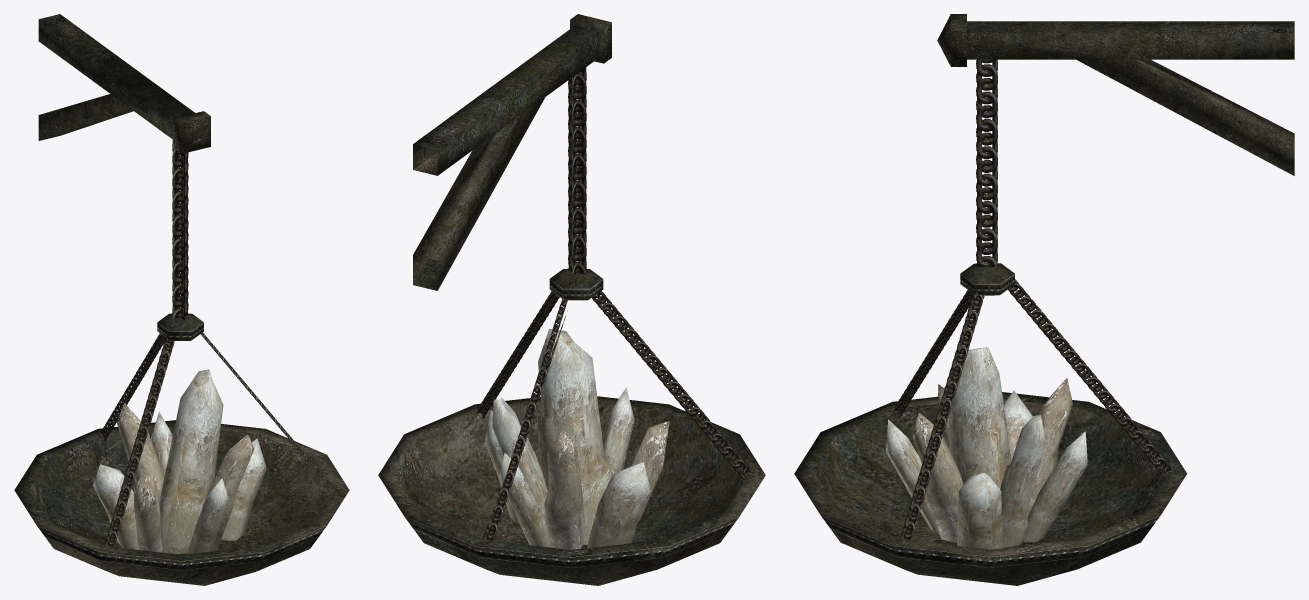
The model's file is KM_VOB_HEARTH_04.glb.
The picture shows the model from 3 angles, left to right: view 1: azimuth 30°, elevation 25°; view 2: azimuth 150°, elevation 25°; view 3: azimuth 270°, elevation 25°; orthographic projection. The views are drawn at different scales.
Parts seen in each view (by area): view 1: Mesh; view 2: Mesh; view 3: Mesh.
Boxes of the visible parts, x1=… form: Mesh: x1=14, y1=14, x2=349, y2=585; Mesh: x1=378, y1=14, x2=765, y2=585; Mesh: x1=794, y1=14, x2=1294, y2=585.
Bounding box in the file's own units: 1.56 × 2.36 × 1.99.
4 materials, 4 textured.
